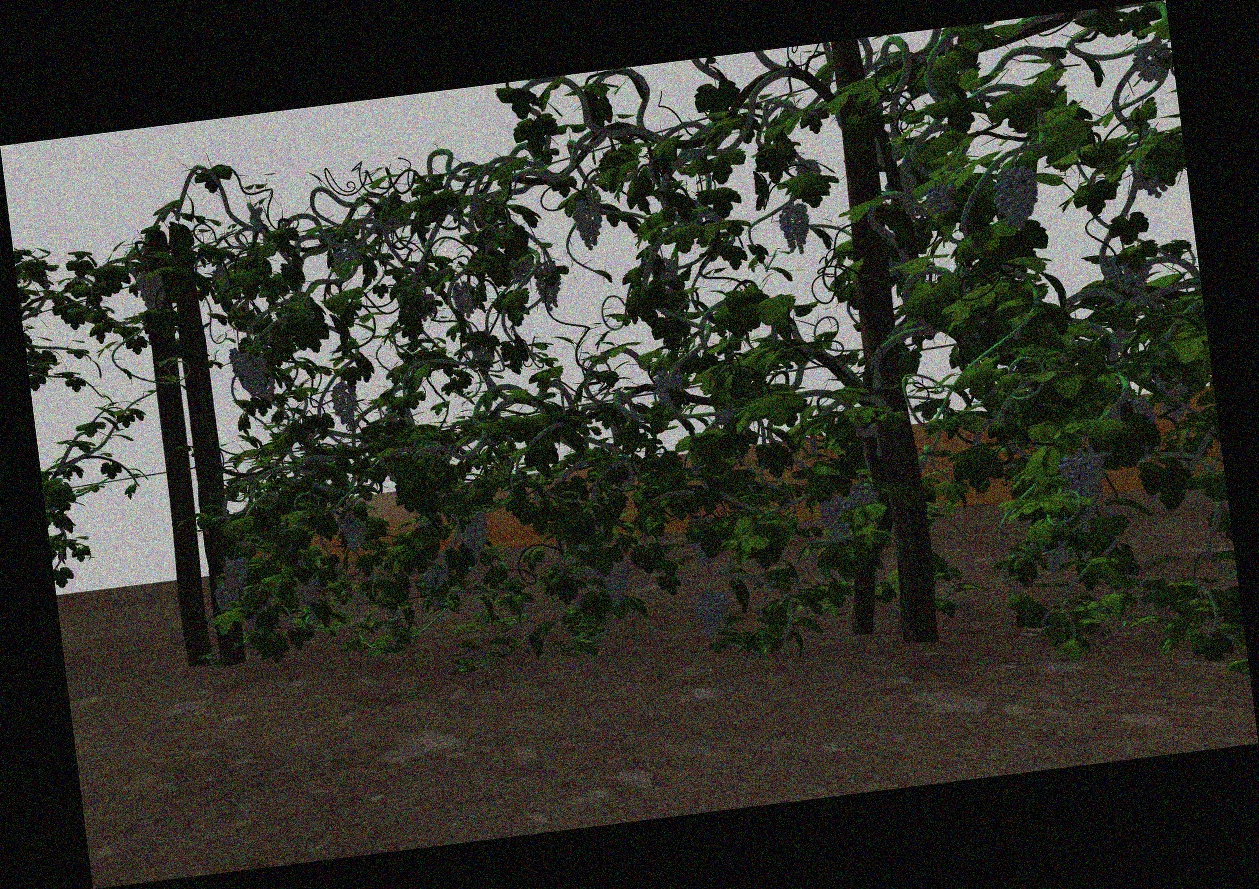grape: (1062, 449, 1108, 532), (993, 167, 1040, 230), (1132, 40, 1173, 83), (572, 196, 604, 250), (780, 202, 812, 255), (820, 496, 853, 546), (696, 587, 729, 635), (535, 261, 563, 312), (603, 559, 631, 608), (463, 513, 489, 561), (239, 351, 266, 397), (653, 369, 684, 408), (331, 381, 358, 424), (137, 271, 166, 311), (342, 510, 368, 552), (1106, 256, 1133, 294), (848, 480, 879, 510), (926, 182, 958, 211), (453, 280, 476, 318), (223, 557, 247, 588), (299, 579, 323, 608), (510, 254, 533, 284), (214, 584, 240, 610), (423, 565, 448, 589)
